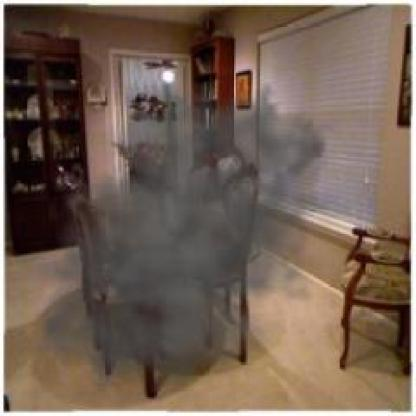Smoke: (15, 59, 354, 414)
